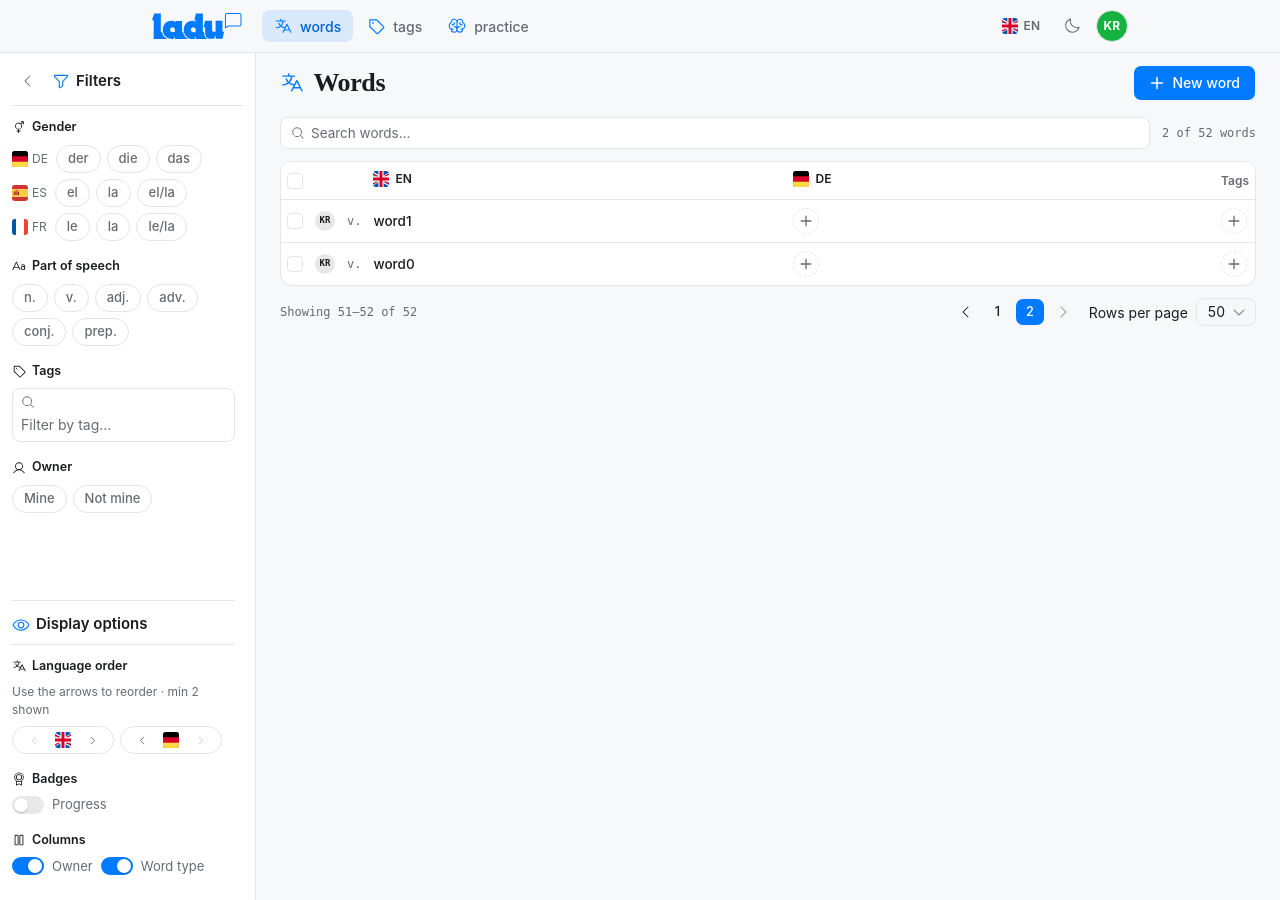
ReviewPage › goes back to page 1 when a filter changes
The width and height of the screenshot is (1280, 900).
Click the button "n." at (30, 298), box [12,284,48,312]
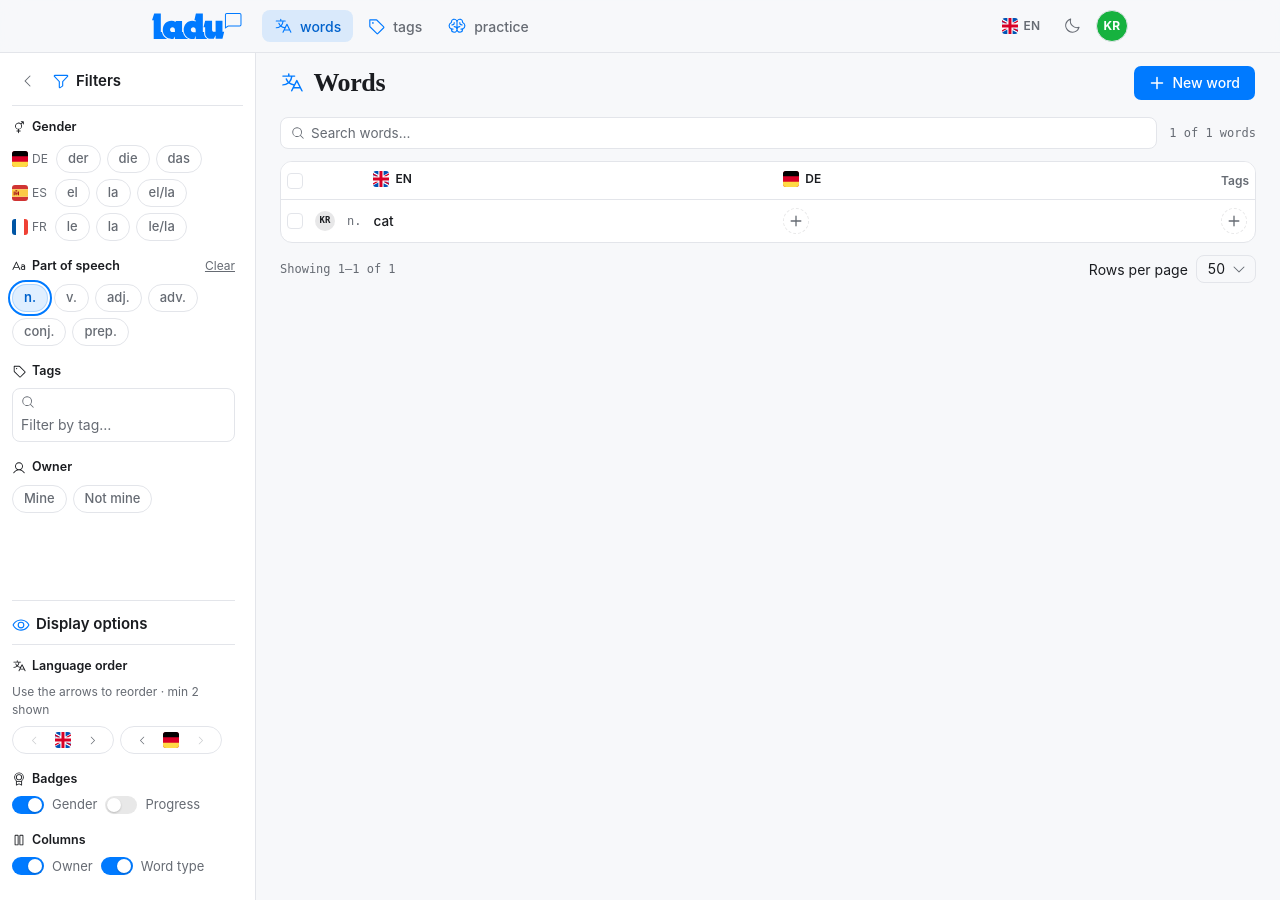
Expected: the button "cat" is shown, [370,209,398,233]
